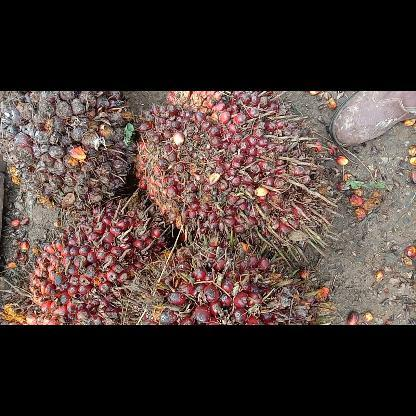Kurang masak: (0, 90, 140, 209)
TBS masak: (132, 92, 338, 278), (125, 228, 337, 324), (22, 194, 170, 324)
